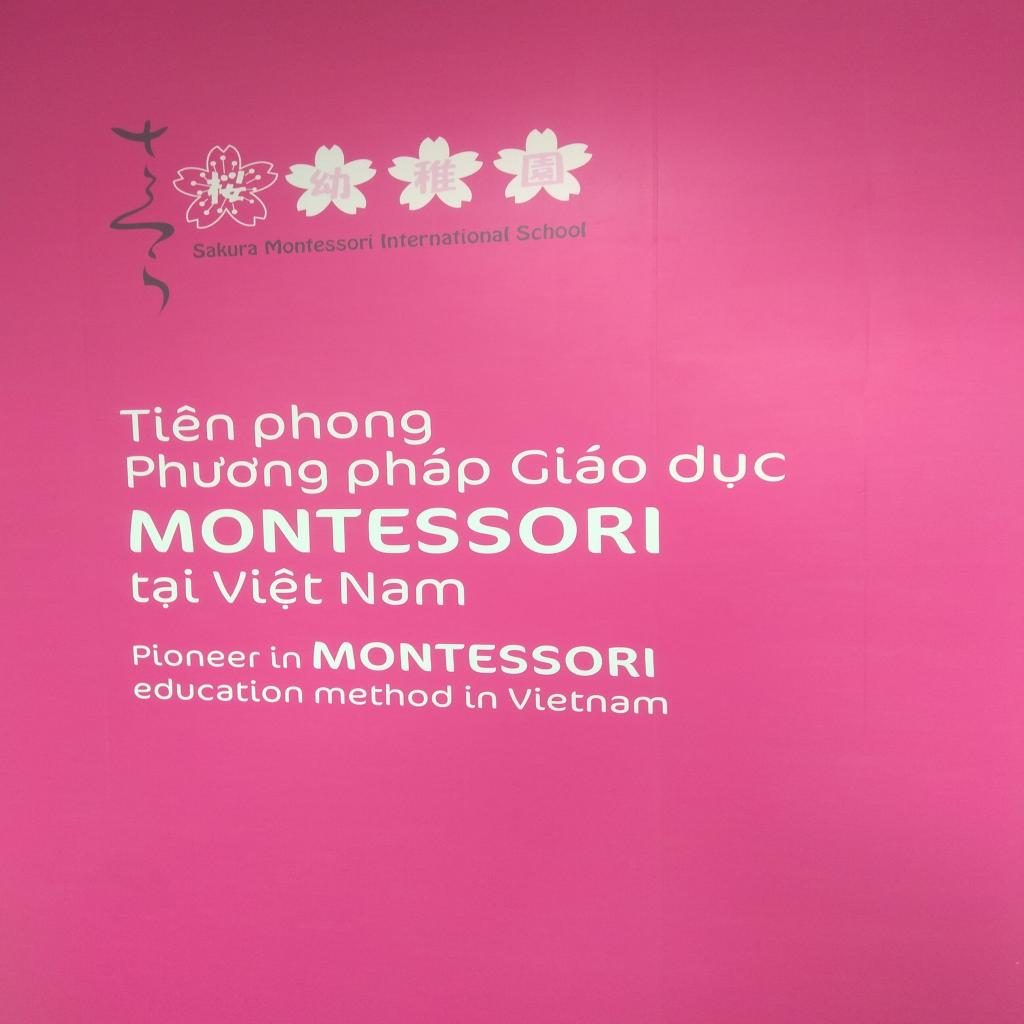text: (127, 504, 663, 556), (310, 639, 658, 679), (124, 450, 330, 496), (252, 399, 434, 449), (344, 444, 493, 495), (508, 441, 648, 487), (666, 442, 788, 490), (210, 567, 326, 611), (337, 570, 468, 608), (118, 402, 236, 444), (132, 678, 304, 704), (313, 682, 454, 708), (131, 642, 261, 669), (378, 224, 510, 250), (130, 566, 203, 609), (262, 232, 375, 257), (514, 220, 588, 242), (190, 239, 260, 260), (464, 683, 500, 710), (270, 644, 302, 670)
